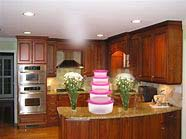copymove: (94, 85, 166, 127)
